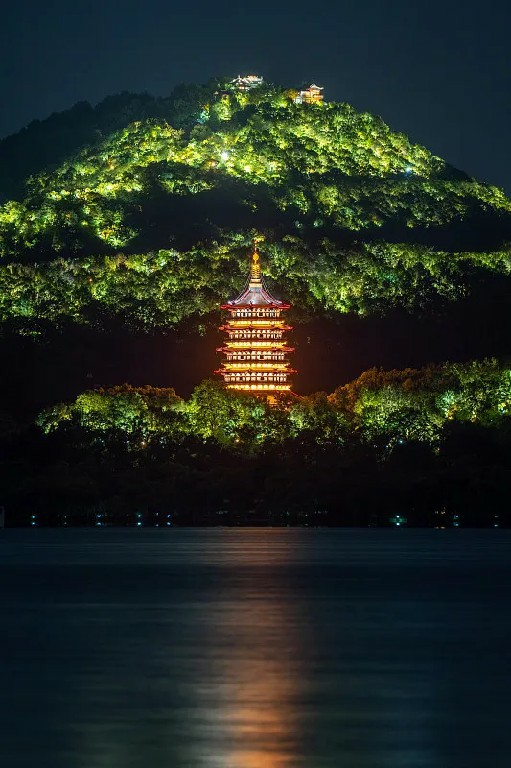Leifeng: (212, 239, 299, 405)
